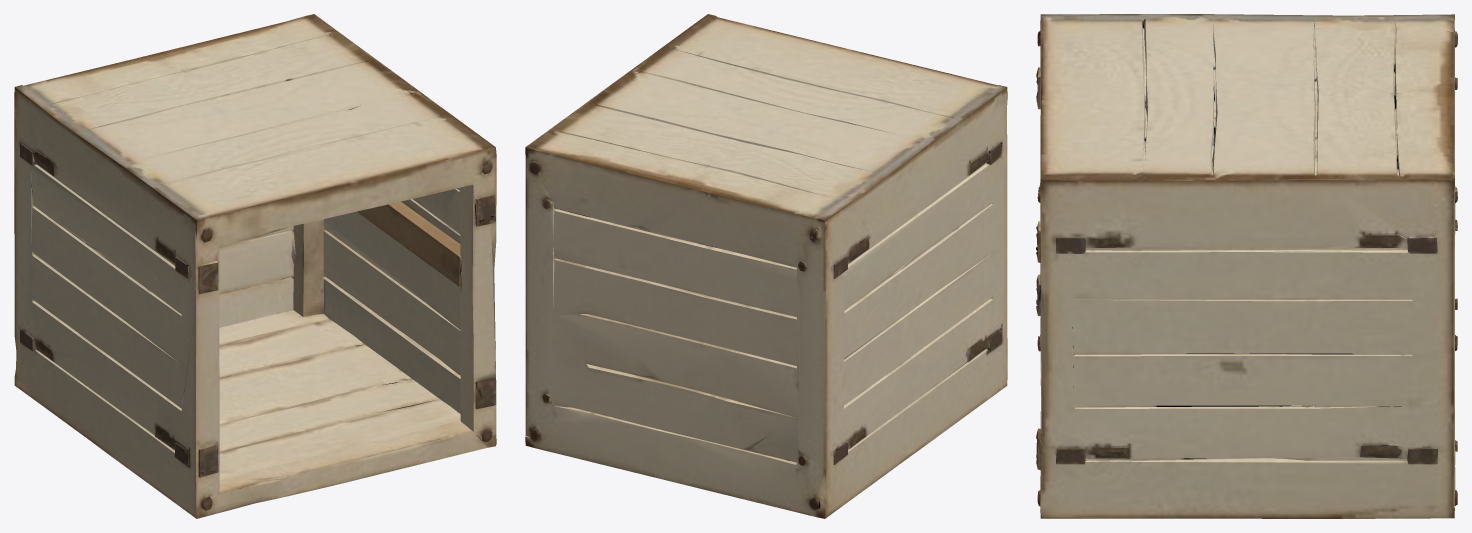
File: crate_open_broken.glb
The picture shows the model from 3 angles, left to right: view 1: azimuth 30°, elevation 25°; view 2: azimuth 150°, elevation 25°; view 3: azimuth 270°, elevation 25°; orthographic projection. The views are drawn at different scales.
Parts seen in each view (by area): view 1: main; view 2: main; view 3: main.
Boxes of the visible parts, x1,y1,x2,y2 form: main: (14, 14, 496, 518); main: (525, 14, 1007, 518); main: (1036, 14, 1457, 518).
Size of the model in its own units: 0.9702 by 0.9097 by 1.02.
1 material, 1 textured.
